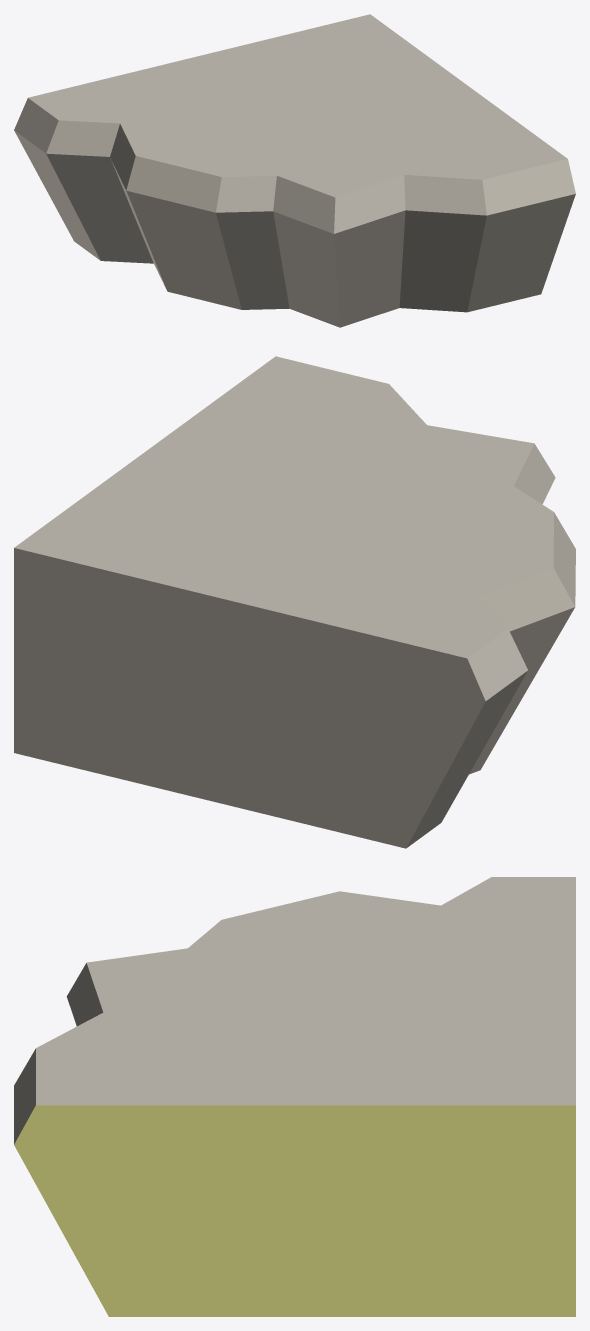
The model's file is Cracked_Curve_Outer_3x3_1_Top.glb.
3 views of the same model, one above another, from view 1: azimuth 30°, elevation 25°; view 2: azimuth 150°, elevation 25°; view 3: azimuth 270°, elevation 25° (orthographic). The views are drawn at different scales.
Visible parts, largest first — view 1: Cracked_Curve_Outer_3x3_1_Top; view 2: Cracked_Curve_Outer_3x3_1_Top; view 3: Cracked_Curve_Outer_3x3_1_Top.
Part boxes in pixels (bbox=[...]): Cracked_Curve_Outer_3x3_1_Top: bbox=[14, 14, 575, 327]; Cracked_Curve_Outer_3x3_1_Top: bbox=[14, 356, 575, 848]; Cracked_Curve_Outer_3x3_1_Top: bbox=[14, 877, 575, 1316].
Bounding box in the file's own units: 241 × 100 × 241.
